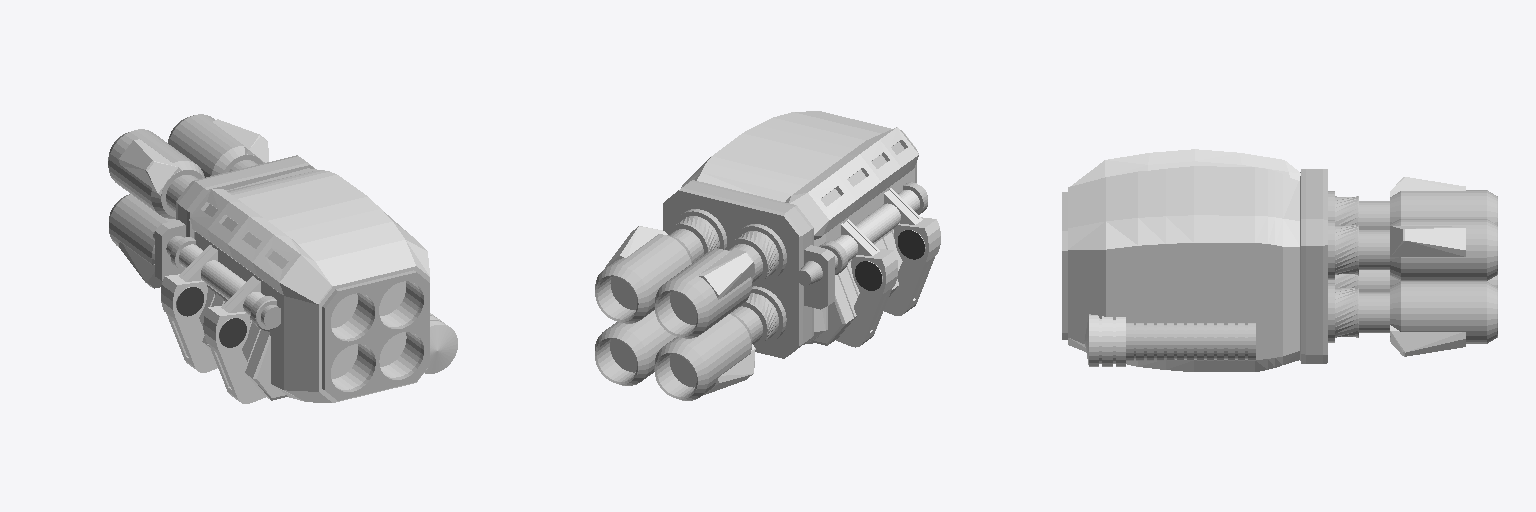
File: thermo_rocket_cannon2.obj
The picture shows the model from 3 angles: view 1: azimuth 30°, elevation 25°; view 2: azimuth 150°, elevation 25°; view 3: azimuth 270°, elevation 25°; orthographic projection.
Visible parts, largest first — view 1: Plane.001; view 2: Plane.001; view 3: Plane.001.
Part boxes in pixels (bbox=[...]): Plane.001: bbox=[108, 114, 457, 403]; Plane.001: bbox=[595, 111, 940, 400]; Plane.001: bbox=[1062, 149, 1497, 371].
Size of the model in its own units: 4.07 by 3.02 by 7.18.